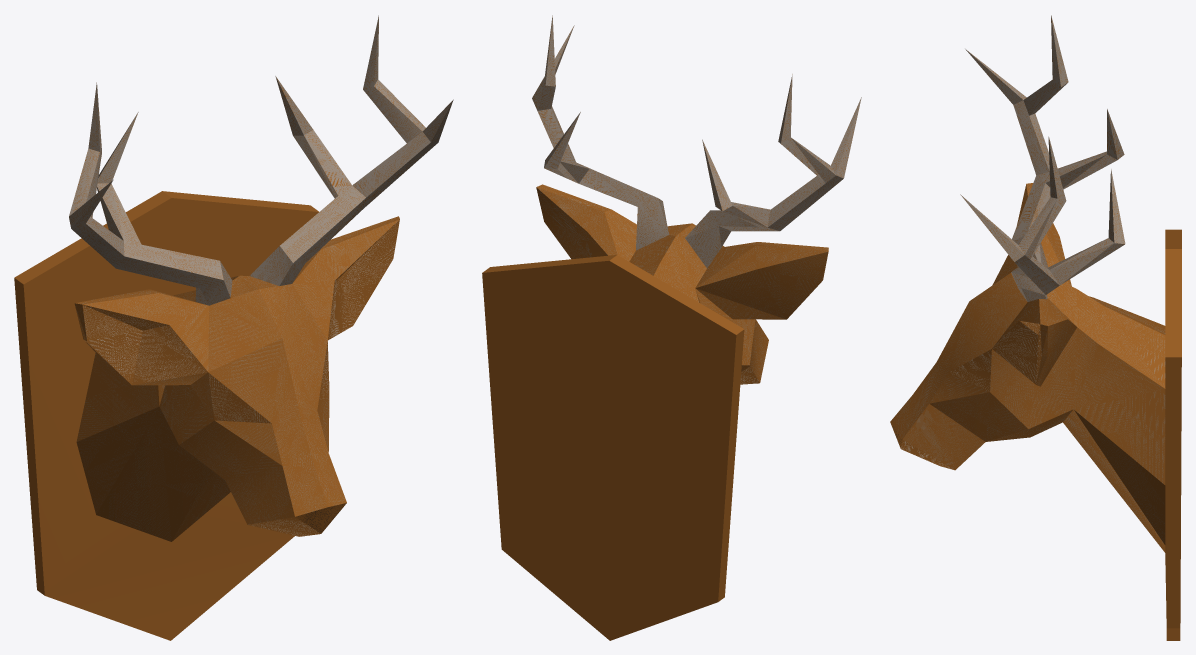
Rendered from Dungeon_Deer_Head_Real_01.fbx.
3 renders of one model, left to right at view 1: azimuth 30°, elevation 25°; view 2: azimuth 150°, elevation 25°; view 3: azimuth 270°, elevation 25°, orthographic. The views are drawn at different scales.
Visible parts, largest first — view 1: Model; view 2: Model; view 3: Model.
Part boxes in pixels (box(x1,y1,x2,y2)): Model: box(14, 15, 453, 640); Model: box(482, 15, 861, 640); Model: box(890, 15, 1181, 640).
Bounding box in the file's own units: 93.39 × 157 × 73.4.
